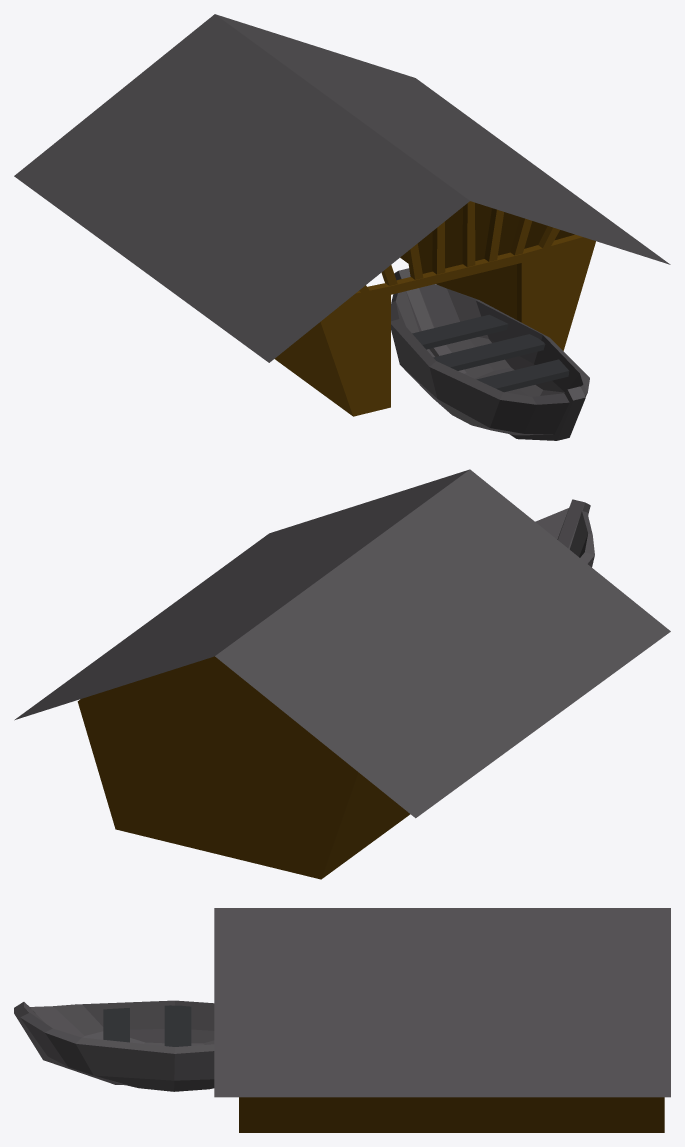
File: 27.06_Bubuia_Estaleiro1-0.fbx
3 renders of one model, top to bottom at view 1: azimuth 30°, elevation 25°; view 2: azimuth 150°, elevation 25°; view 3: azimuth 270°, elevation 25°, orthographic. The views are drawn at different scales.
Visible parts, largest first — view 1: Cube; view 2: Cube; view 3: Cube.
Part boxes in pixels (x1,y1,x2,y2): Cube: (14, 14, 670, 440); Cube: (14, 469, 670, 879); Cube: (14, 908, 670, 1132).
Size of the model in its own units: 14.02 by 6.7 by 22.2.
